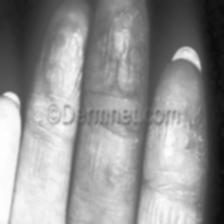Non-Cancerous Skin Condition: (96, 3, 148, 108)
